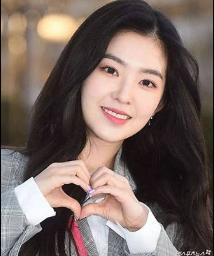face: (84, 34, 166, 138)
